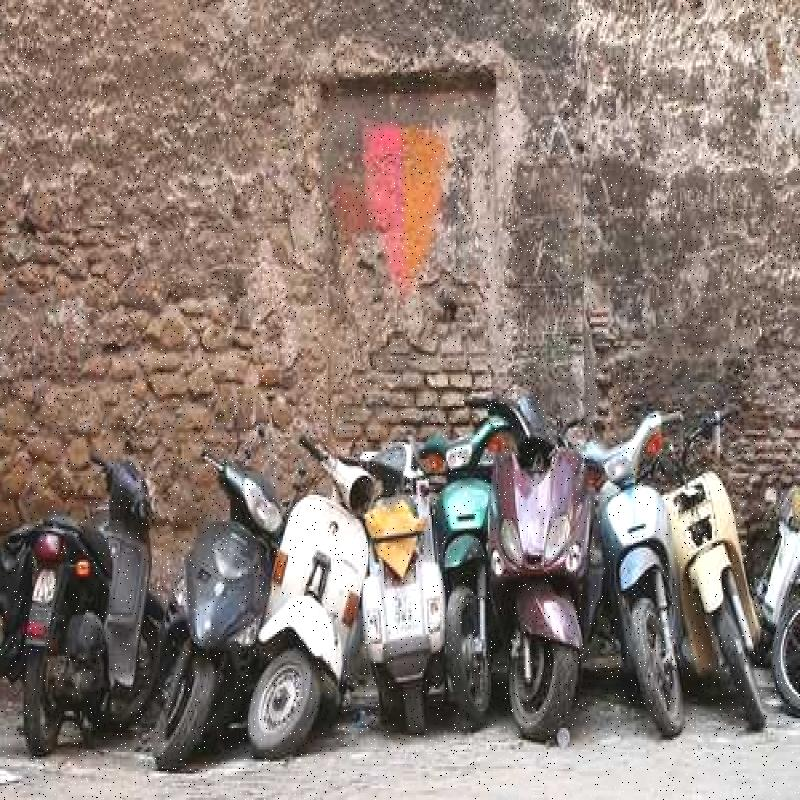bike: (228, 435, 384, 743), (144, 443, 288, 762), (9, 461, 158, 764), (480, 399, 605, 755), (398, 388, 507, 736), (592, 380, 690, 736), (672, 414, 756, 747), (359, 389, 432, 762)
